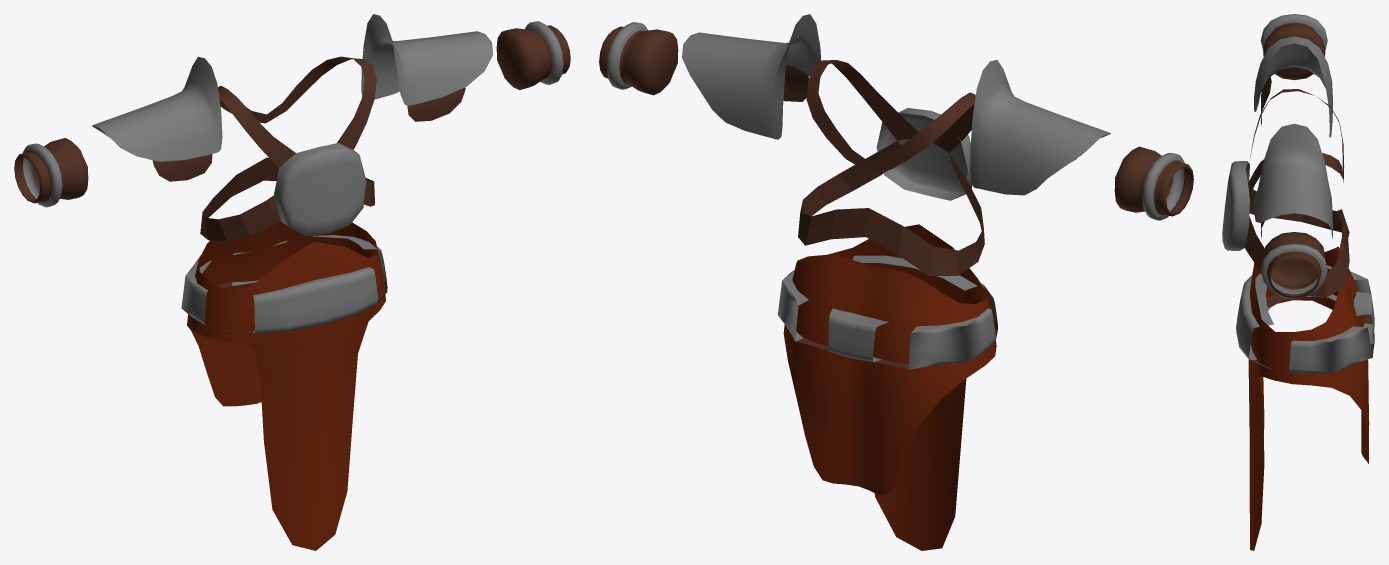
File: viking-1.glb
3 views of the same model, side by side, from view 1: azimuth 30°, elevation 25°; view 2: azimuth 150°, elevation 25°; view 3: azimuth 270°, elevation 25° (orthographic). The views are drawn at different scales.
Parts seen in each view (by area): view 1: viking; view 2: viking; view 3: viking.
Boxes of the visible parts, bbox=[...] form: viking: bbox=[14, 14, 570, 550]; viking: bbox=[599, 14, 1193, 550]; viking: bbox=[1222, 14, 1374, 550].
Size of the model in its own units: 2.5 by 2.24 by 0.6649.
